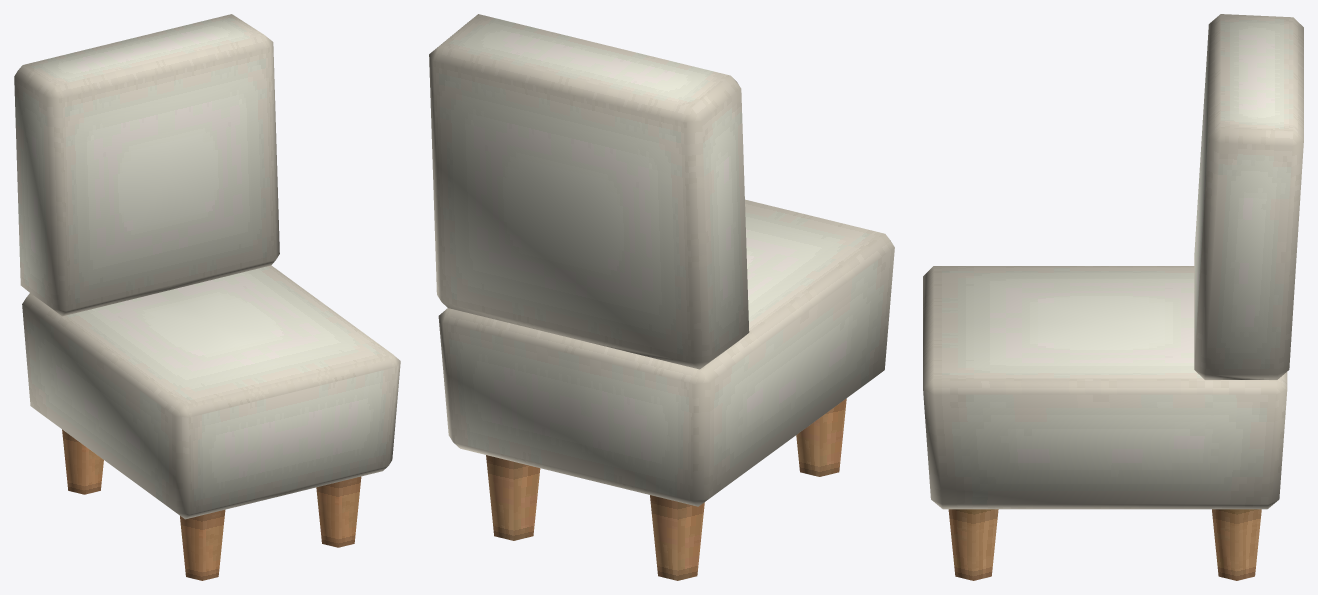
File: rmk_smp_chairS.dae
3 views of the same model, side by side, from view 1: azimuth 30°, elevation 25°; view 2: azimuth 150°, elevation 25°; view 3: azimuth 270°, elevation 25° (orthographic). The views are drawn at different scales.
Parts seen in each view (by area): view 1: rmk_smp_chairS; view 2: rmk_smp_chairS; view 3: rmk_smp_chairS.
Part boxes in pixels (<box>): rmk_smp_chairS: <box>14,14,400,580</box>; rmk_smp_chairS: <box>429,14,894,580</box>; rmk_smp_chairS: <box>923,14,1303,580</box>.
Size of the model in its own units: 20 by 35 by 26.04.
Materials: 2 (2 with a texture image).
